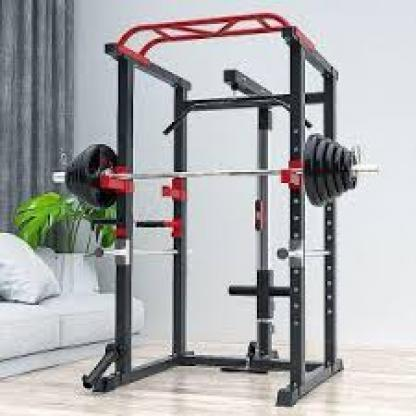smith machine: (82, 11, 353, 408)
